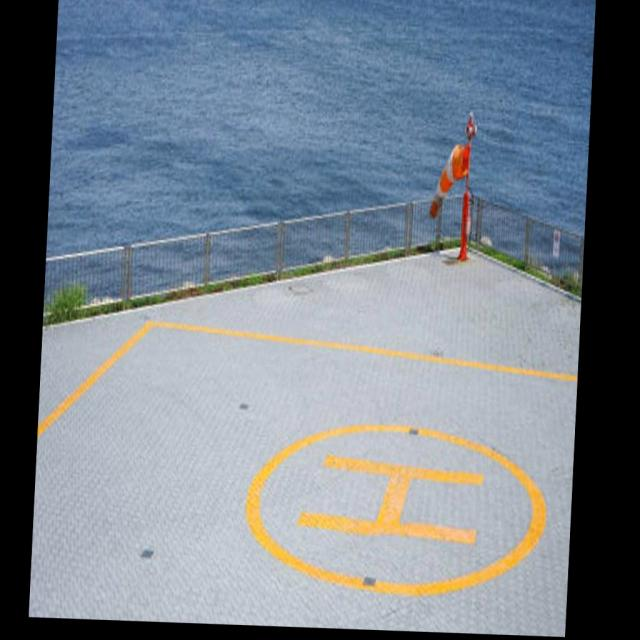helipad: (236, 418, 552, 598)
